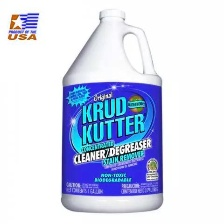cleaning_solution: (58, 5, 165, 216)
